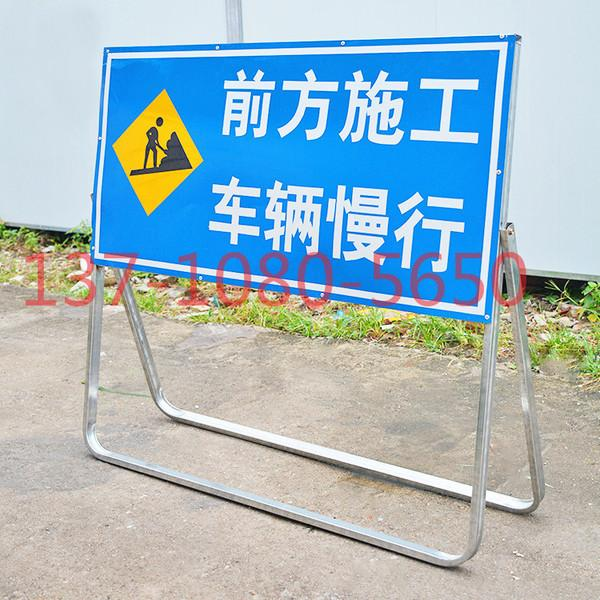sign: (105, 56, 485, 266)
